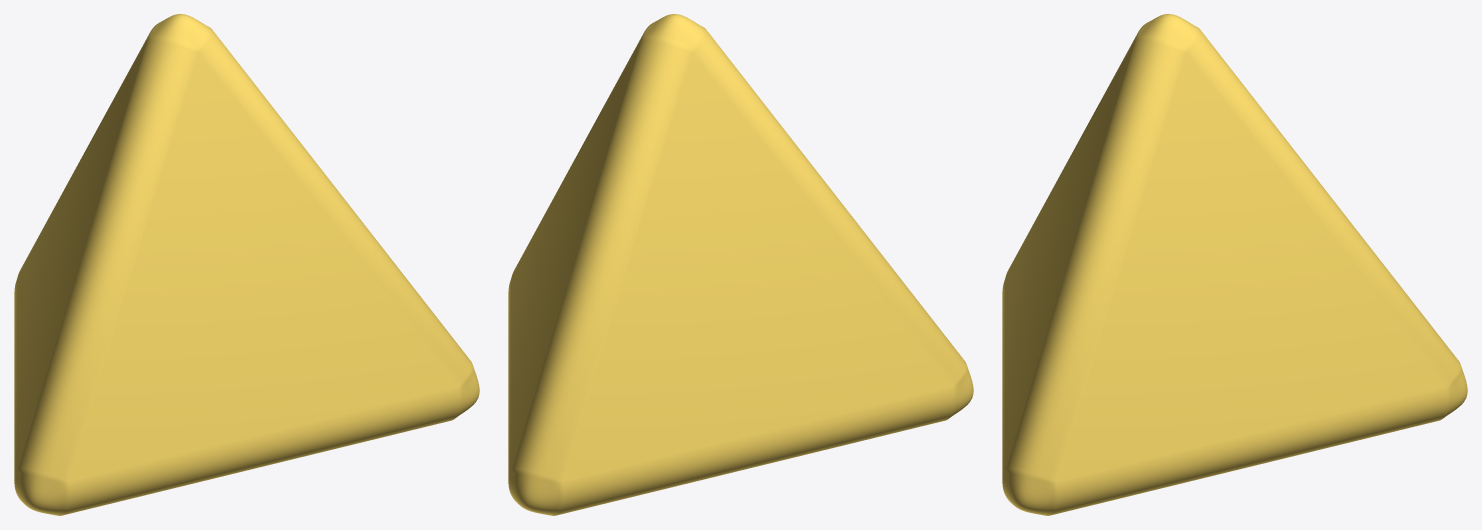
3 views of the same model, side by side, from view 1: azimuth 30°, elevation 25°; view 2: azimuth 150°, elevation 25°; view 3: azimuth 270°, elevation 25° (orthographic).
Parts seen in each view (by area): view 1: Cone; view 2: Cone; view 3: Cone.
Part boxes in pixels (x1=…): Cone: x1=14, y1=14, x2=479, y2=515; Cone: x1=508, y1=14, x2=973, y2=515; Cone: x1=1002, y1=14, x2=1467, y2=515.
Size of the model in its own units: 2.03 by 1.73 by 1.81.
